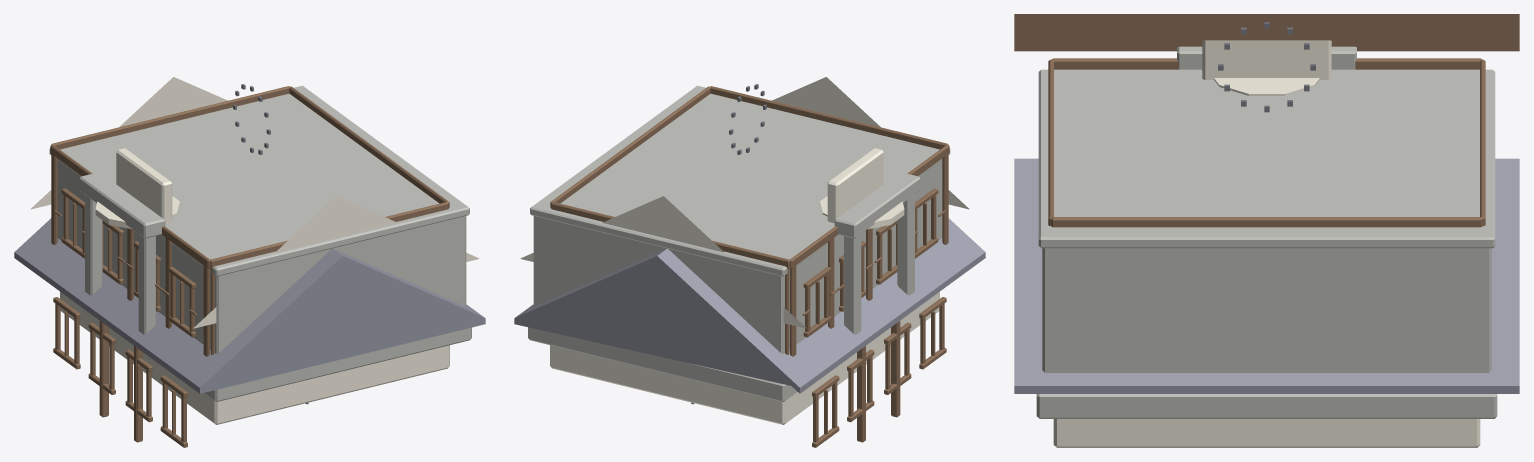
The model's file is town_town_hall.glb.
3 renders of one model, left to right at view 1: azimuth 30°, elevation 25°; view 2: azimuth 150°, elevation 25°; view 3: azimuth 270°, elevation 25°, orthographic. The views are drawn at different scales.
Parts seen in each view (by area): view 1: world; view 2: world; view 3: world.
Part boxes in pixels (bbox=[...]): world: bbox=[14, 77, 485, 447]; world: bbox=[514, 77, 985, 447]; world: bbox=[1014, 14, 1519, 447].
Bounding box in the file's own units: 1.84 × 1.88 × 2.
